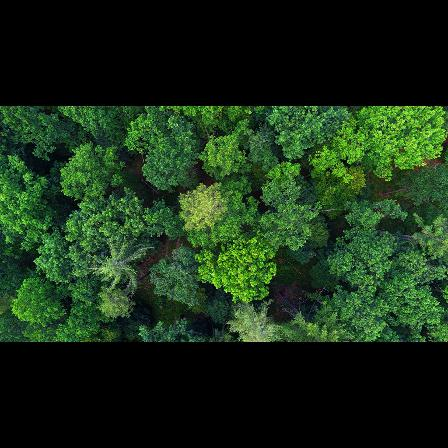Dead: (271, 286, 326, 327)
Sick: (97, 239, 140, 294)
